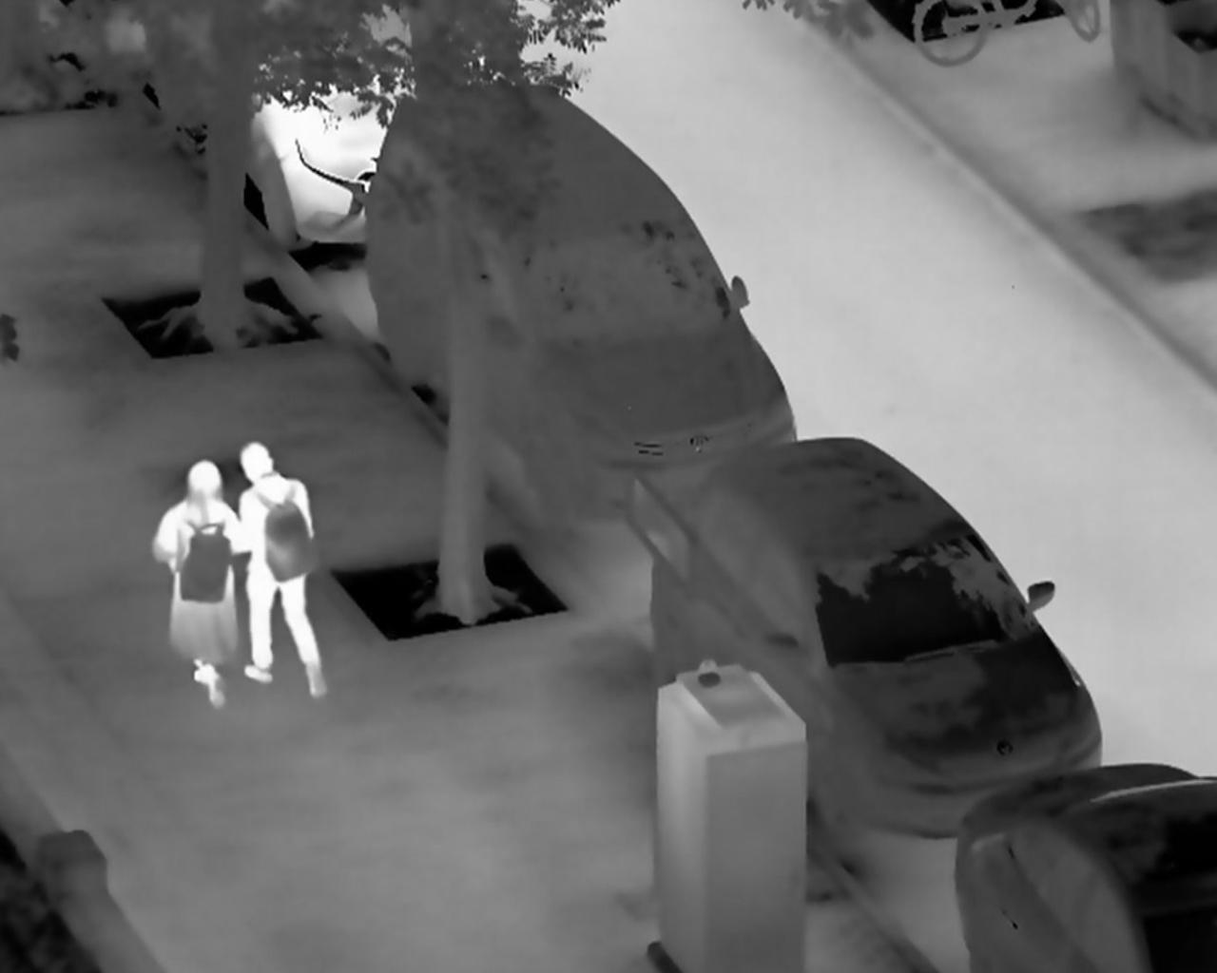person: (150, 458, 249, 713), (236, 437, 325, 703)
